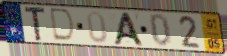0: (85, 10, 109, 45), (149, 13, 172, 48)
2: (177, 15, 201, 50)
A: (111, 11, 146, 48)
D: (50, 7, 77, 44)
T: (23, 6, 47, 43)
